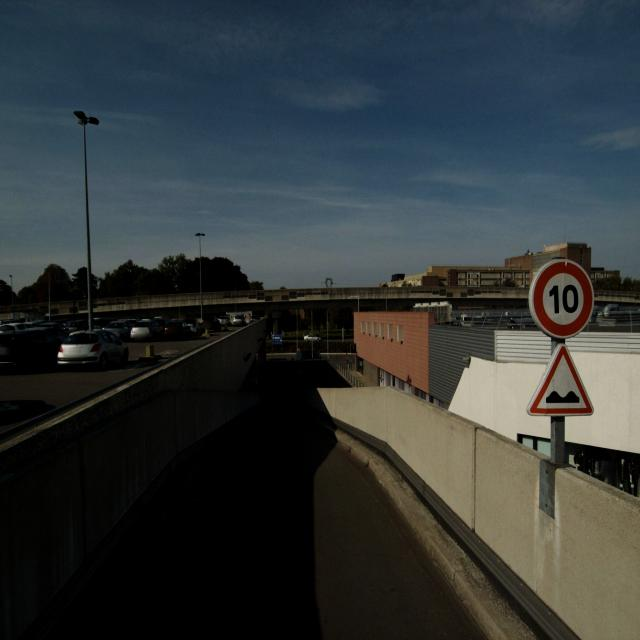car: (57, 328, 129, 369), (0, 329, 62, 373), (130, 318, 164, 341), (104, 319, 136, 339), (164, 319, 192, 339), (184, 317, 207, 335), (202, 314, 222, 332), (66, 318, 90, 332), (153, 316, 171, 332), (217, 312, 230, 327), (231, 313, 247, 325)
